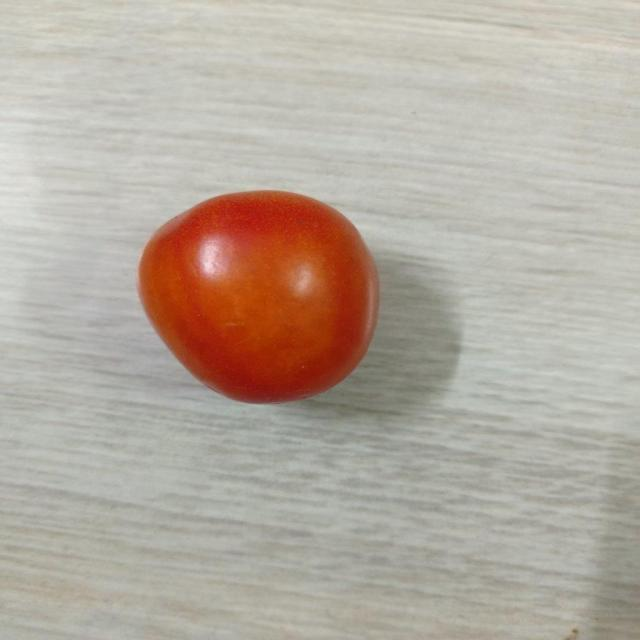Tomato: (131, 188, 386, 406)
